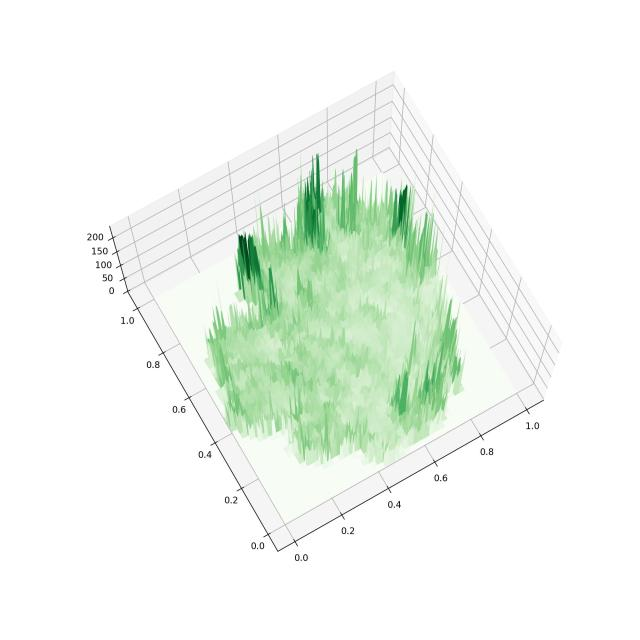fir: (50, 46, 590, 595)
